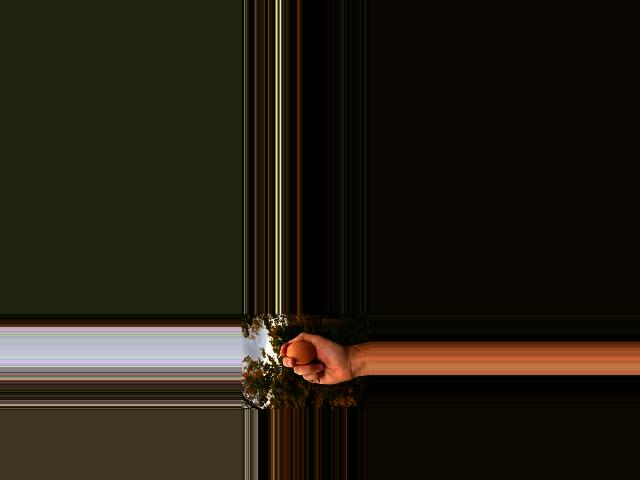egg: (286, 341, 315, 365)
